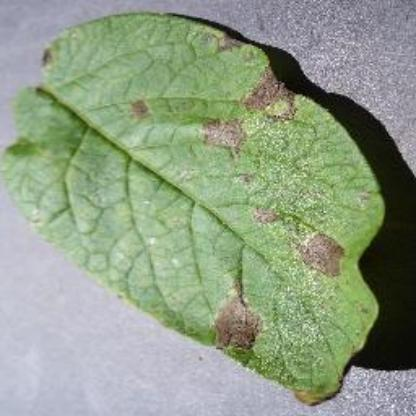Early-Blight: (5, 13, 385, 406)
